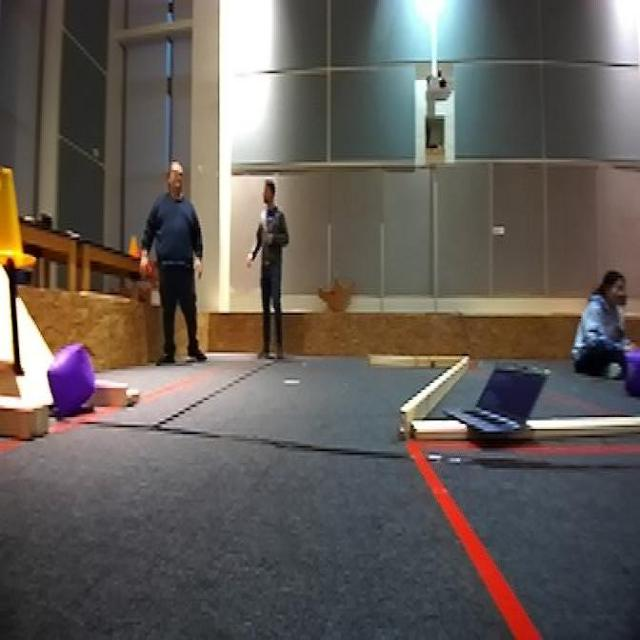frc_cone: (5, 165, 38, 267)
frc_cube: (46, 340, 97, 416), (622, 344, 640, 402)
